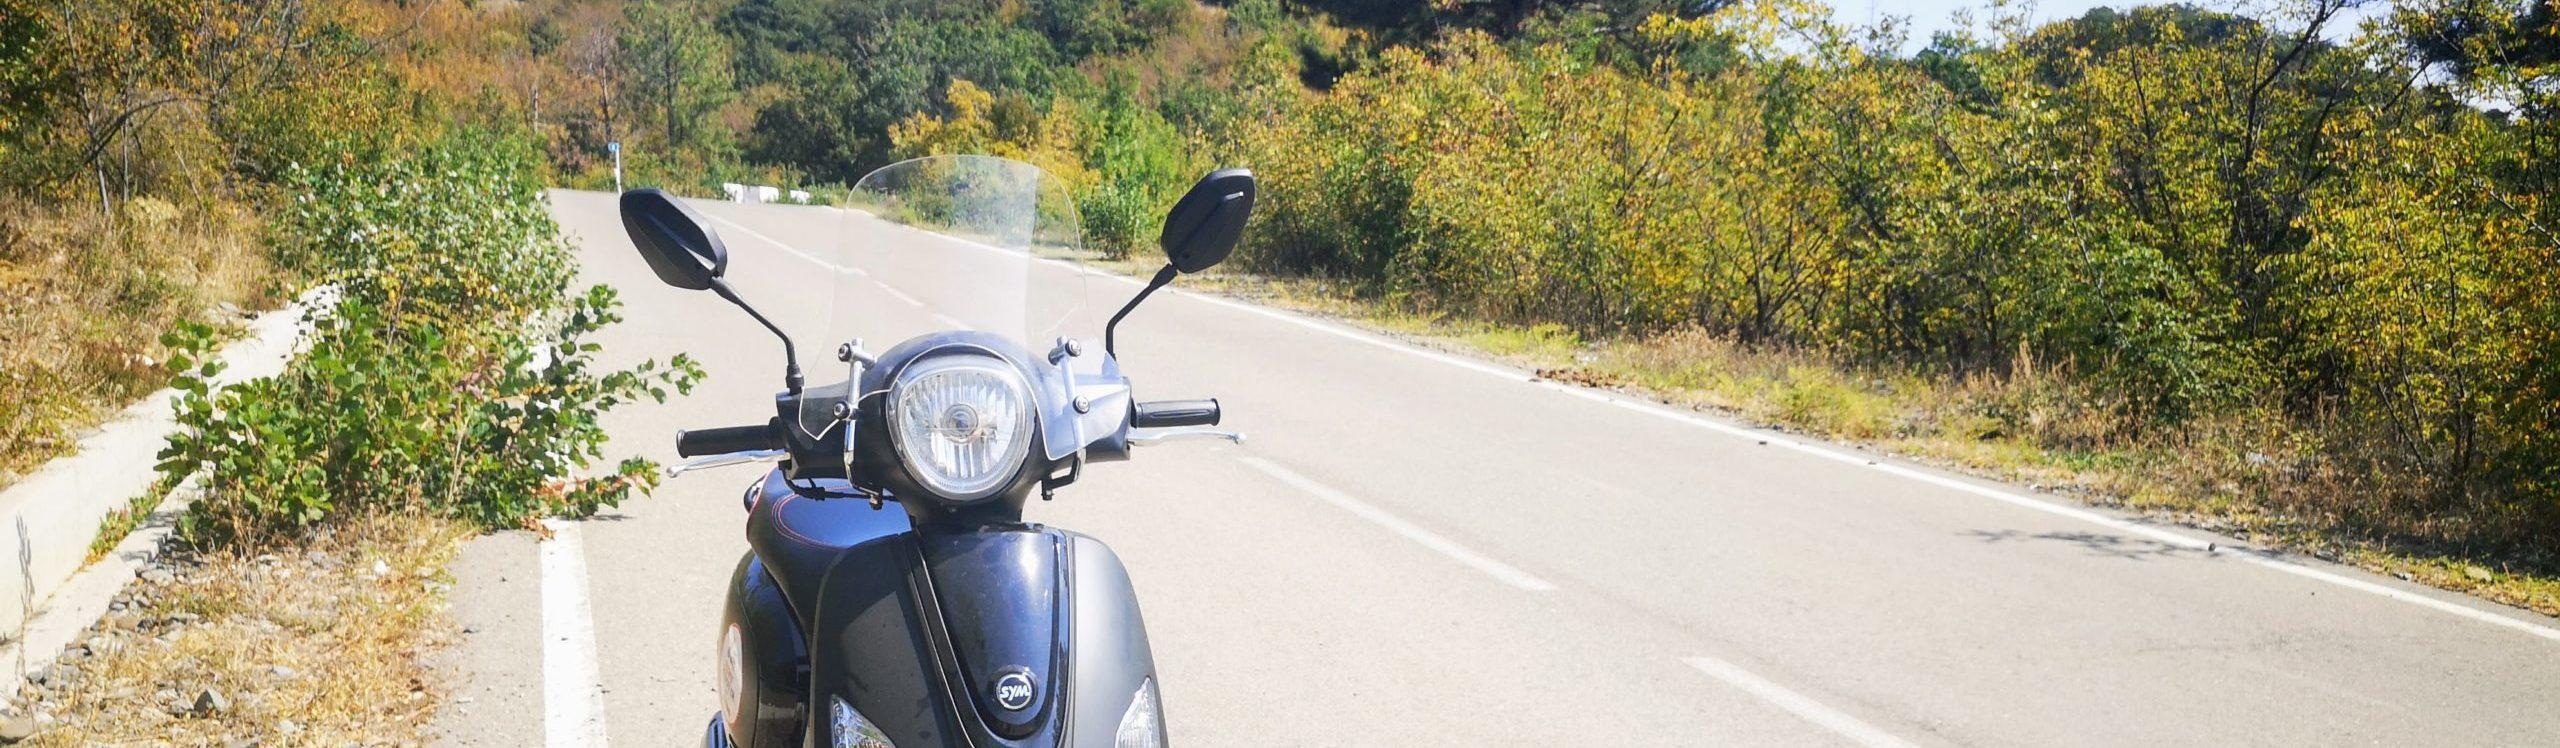motorbike: (612, 167, 1252, 748)
